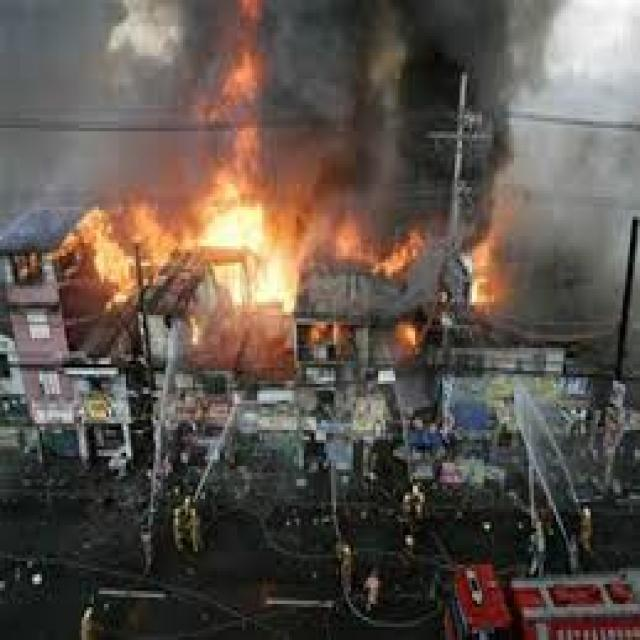Fire: (65, 170, 407, 308), (206, 0, 262, 211), (458, 233, 506, 308)
Smoke: (252, 0, 524, 263)
